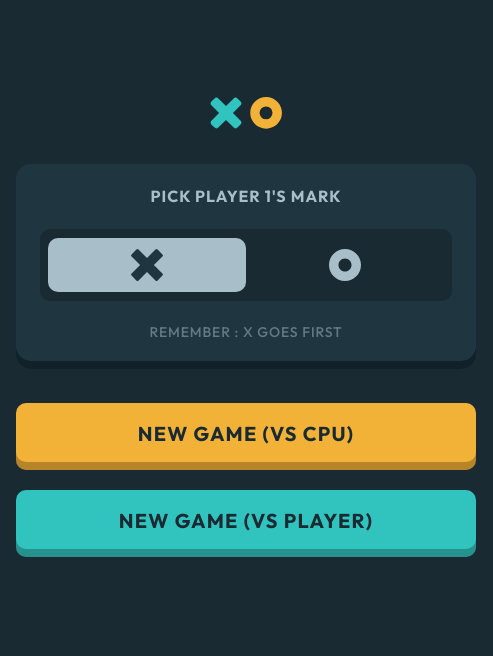
Test: App › starts a two-player game with player 1 as O
# Click the O button to select O as player 1's mark
Click the button named "Select O": {"x": 345, "y": 264} [246,238,444,292]
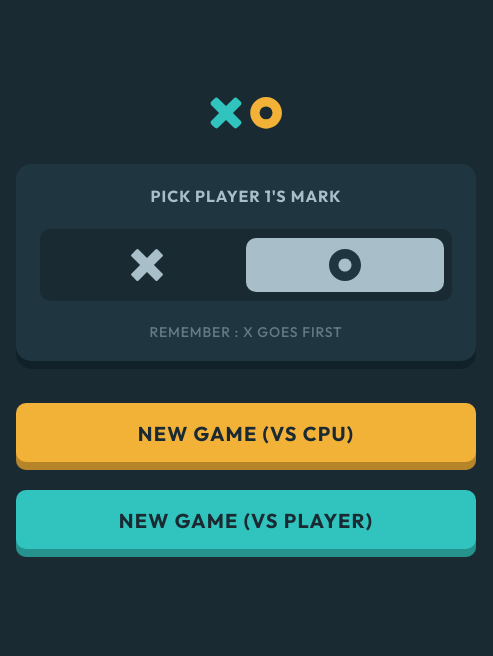
Click the button "New game (vs Player)": {"x": 246, "y": 524} [16,490,476,557]
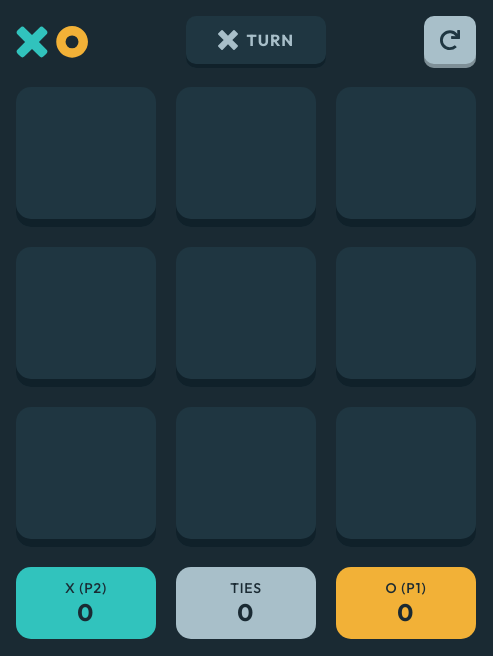
expect the text "X (p2)" is shown: met, box [65,578,107,596]
expect the text "O (p1)" is shown: met, box [386,578,426,596]
